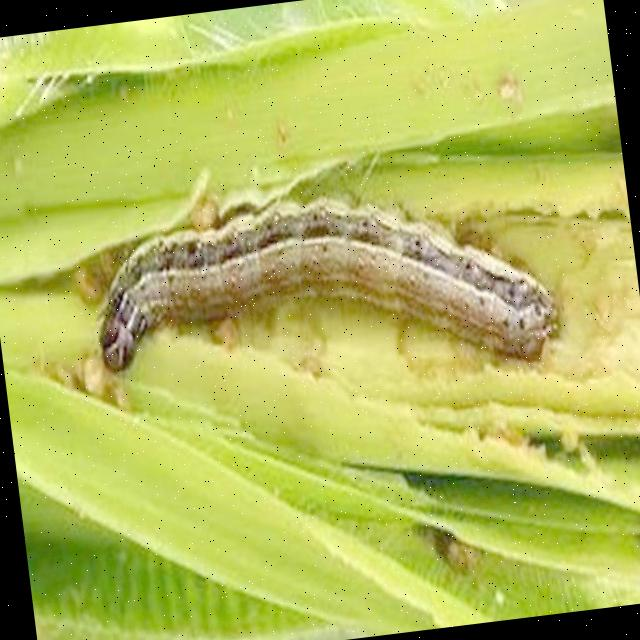worm: (76, 129, 567, 420)
